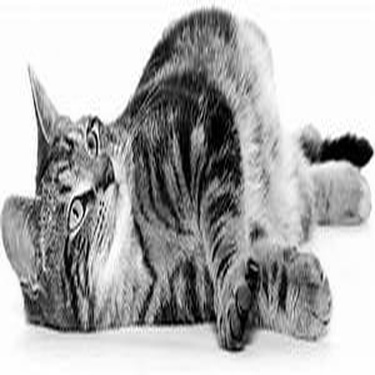cat: (11, 10, 369, 352)
